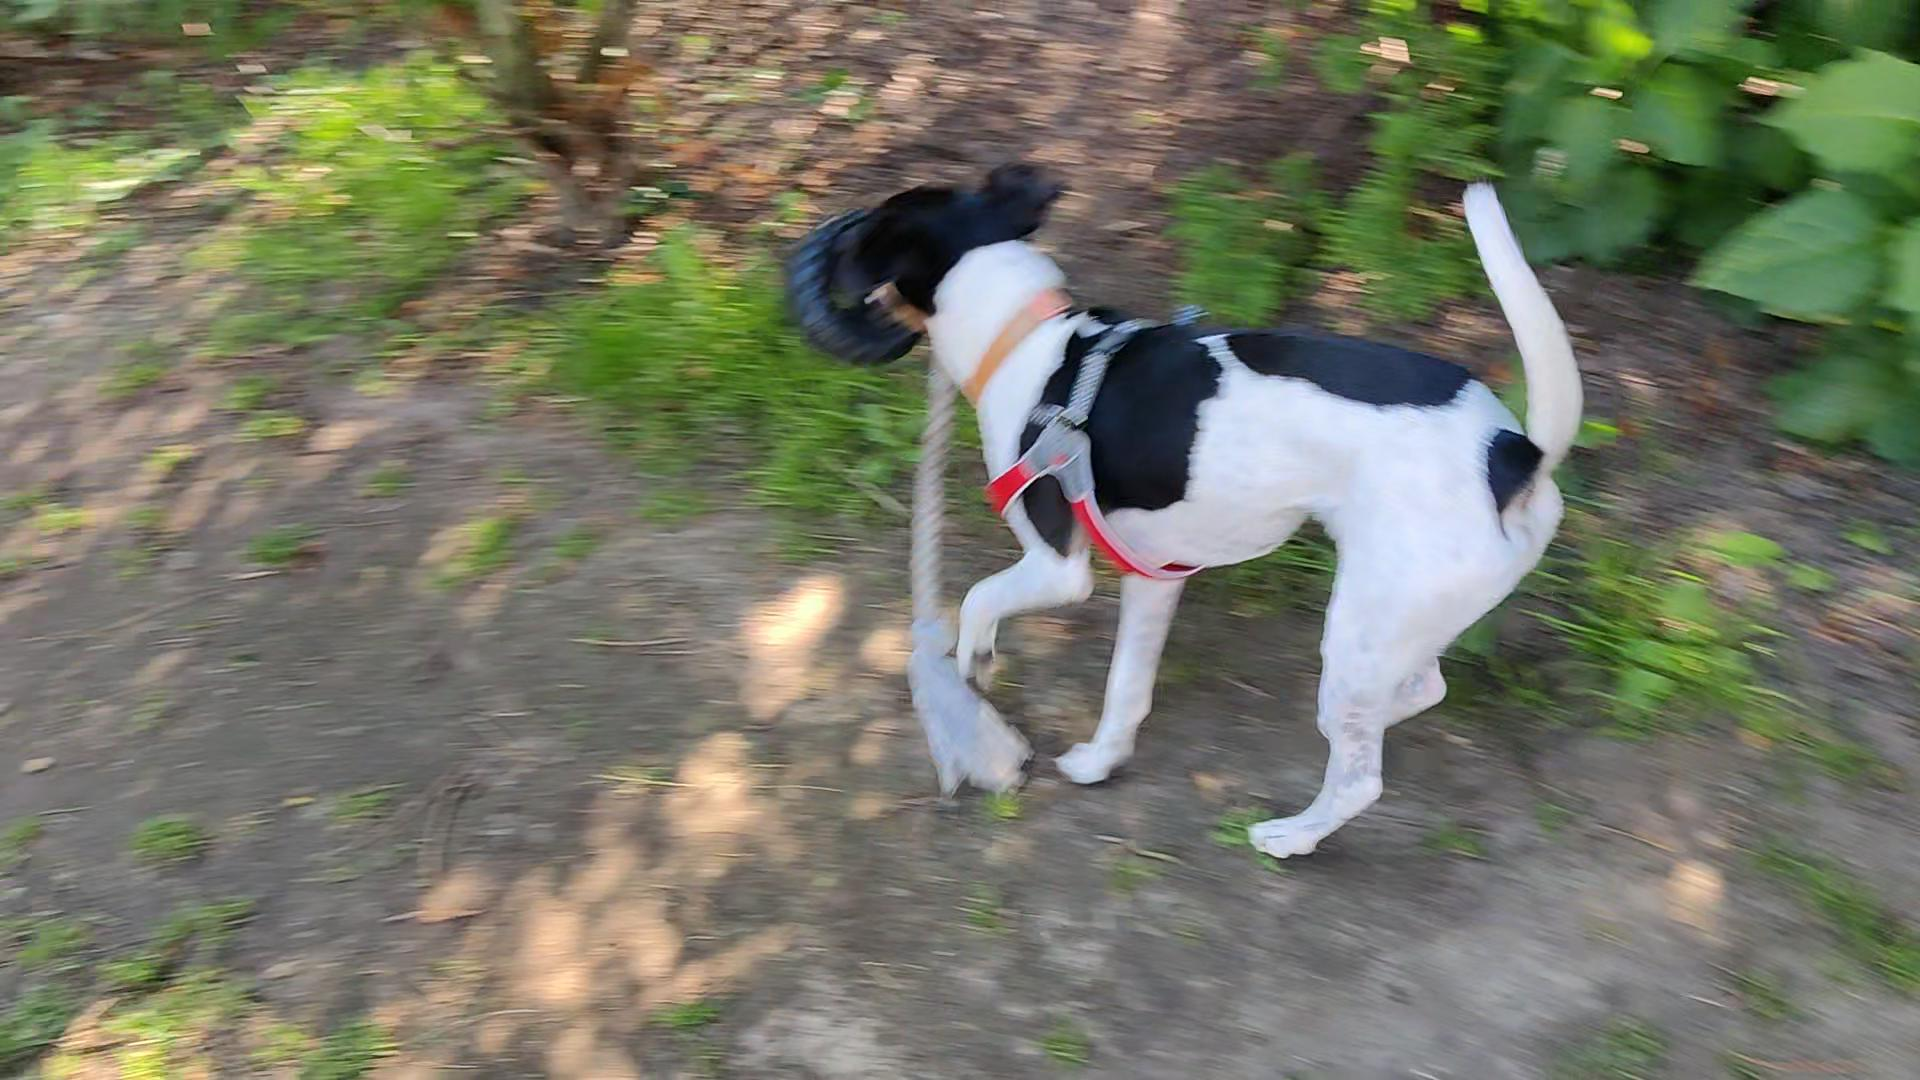Dog: (835, 135, 1615, 880)
